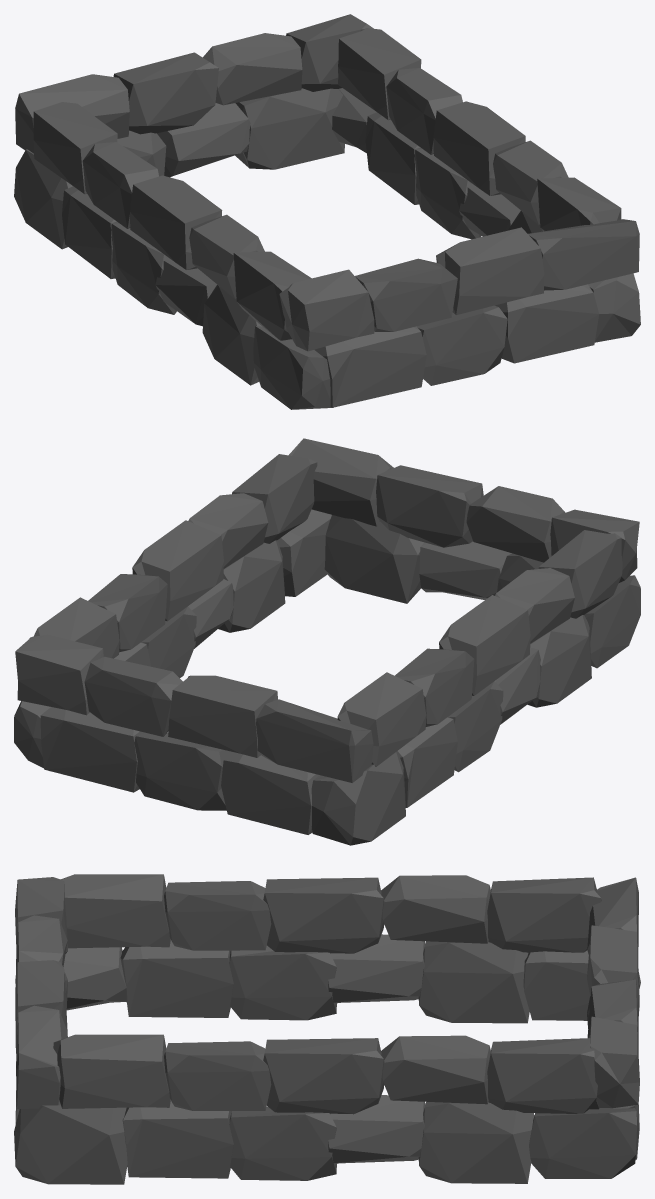
The model's file is foundation_002.glb.
The picture shows the model from 3 angles, top to bottom: view 1: azimuth 30°, elevation 25°; view 2: azimuth 150°, elevation 25°; view 3: azimuth 270°, elevation 25°; orthographic projection. The views are drawn at different scales.
Visible parts, largest first — view 1: foundation_002; view 2: foundation_002; view 3: foundation_002.
Part boxes in pixels (<box>): foundation_002: <box>14,14,640,409</box>; foundation_002: <box>14,438,640,845</box>; foundation_002: <box>14,874,640,1184</box>.
Size of the model in its own units: 7.94 by 2.62 by 11.35.
Materials: 1 (1 with a texture image).
